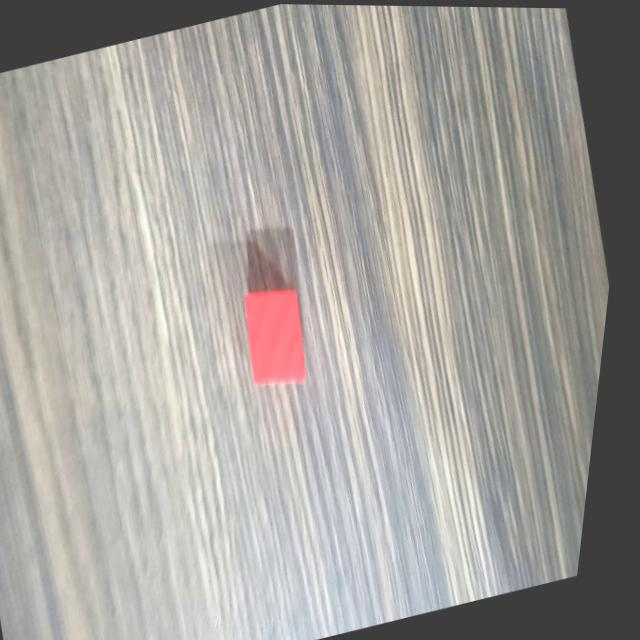cube: (232, 274, 334, 399)
